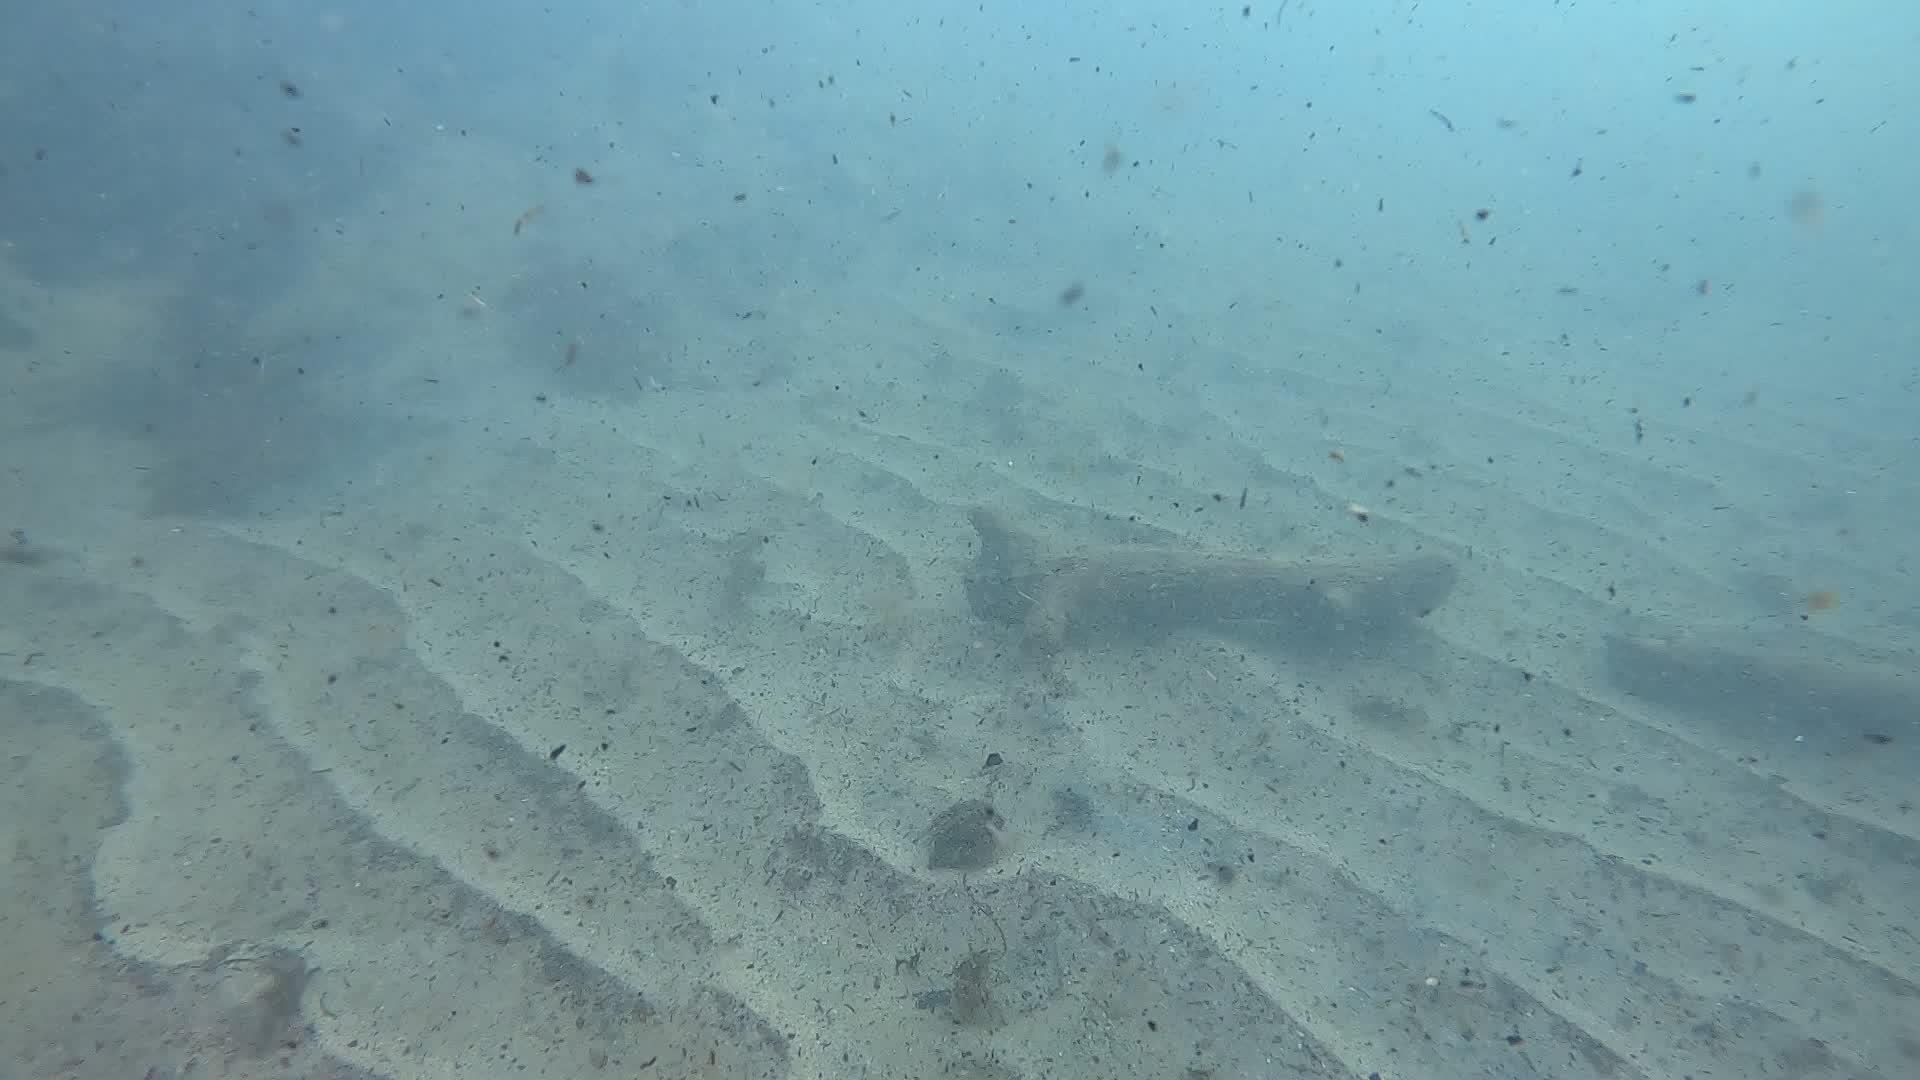wood: (963, 502, 1458, 629), (1598, 628, 1920, 729)
